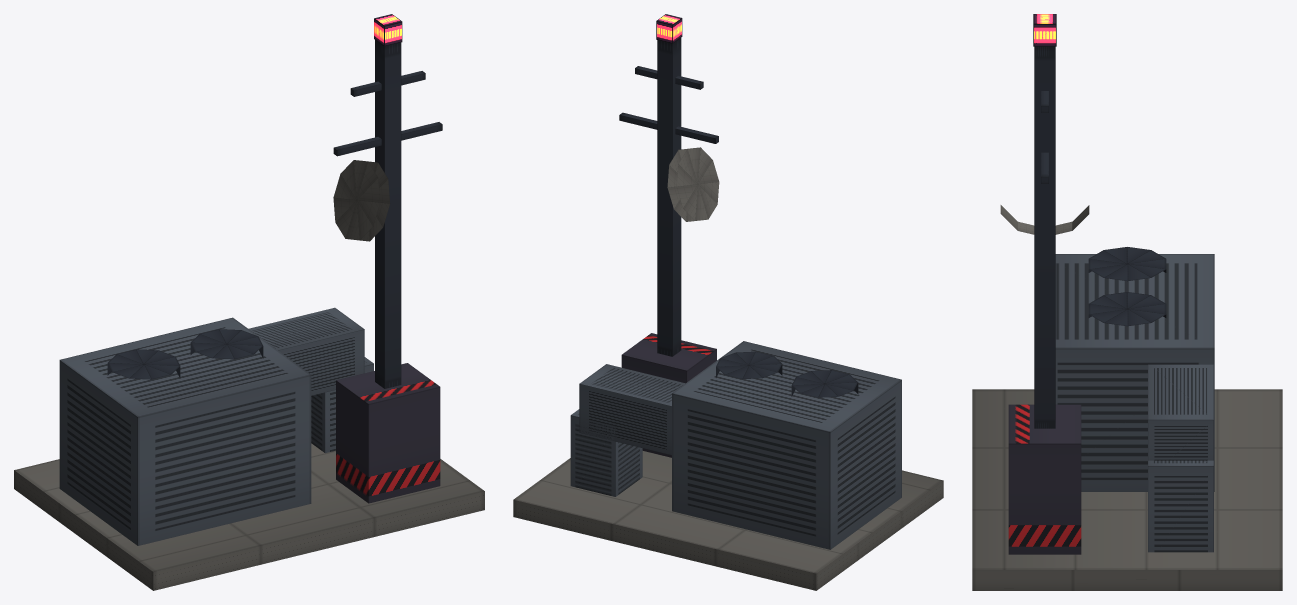
File: ashblock_rooftop_mech_cluster.glb
The picture shows the model from 3 angles, left to right: view 1: azimuth 30°, elevation 25°; view 2: azimuth 150°, elevation 25°; view 3: azimuth 270°, elevation 25°; orthographic projection. The views are drawn at different scales.
Parts seen in each view (by area): view 1: ashblock_rooftop_mech_cluster; view 2: ashblock_rooftop_mech_cluster; view 3: ashblock_rooftop_mech_cluster.
Part boxes in pixels (x1,y1,x2,y2): ashblock_rooftop_mech_cluster: (14, 14, 484, 590); ashblock_rooftop_mech_cluster: (513, 14, 943, 590); ashblock_rooftop_mech_cluster: (972, 14, 1282, 590).
Size of the model in its own units: 4.4 by 6.11 by 3.2.
Materials: 1 (1 with a texture image).
